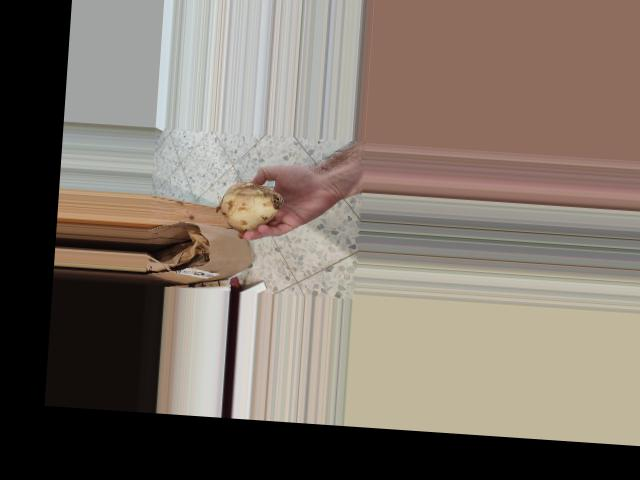onion: (213, 176, 286, 235)
